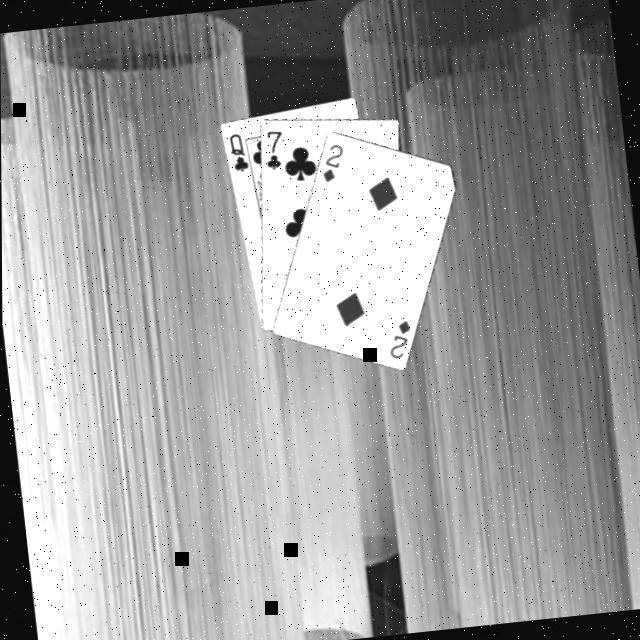2D: (316, 139, 349, 186), (383, 316, 416, 363)
7C: (260, 126, 288, 173)
QC: (225, 128, 252, 176)
